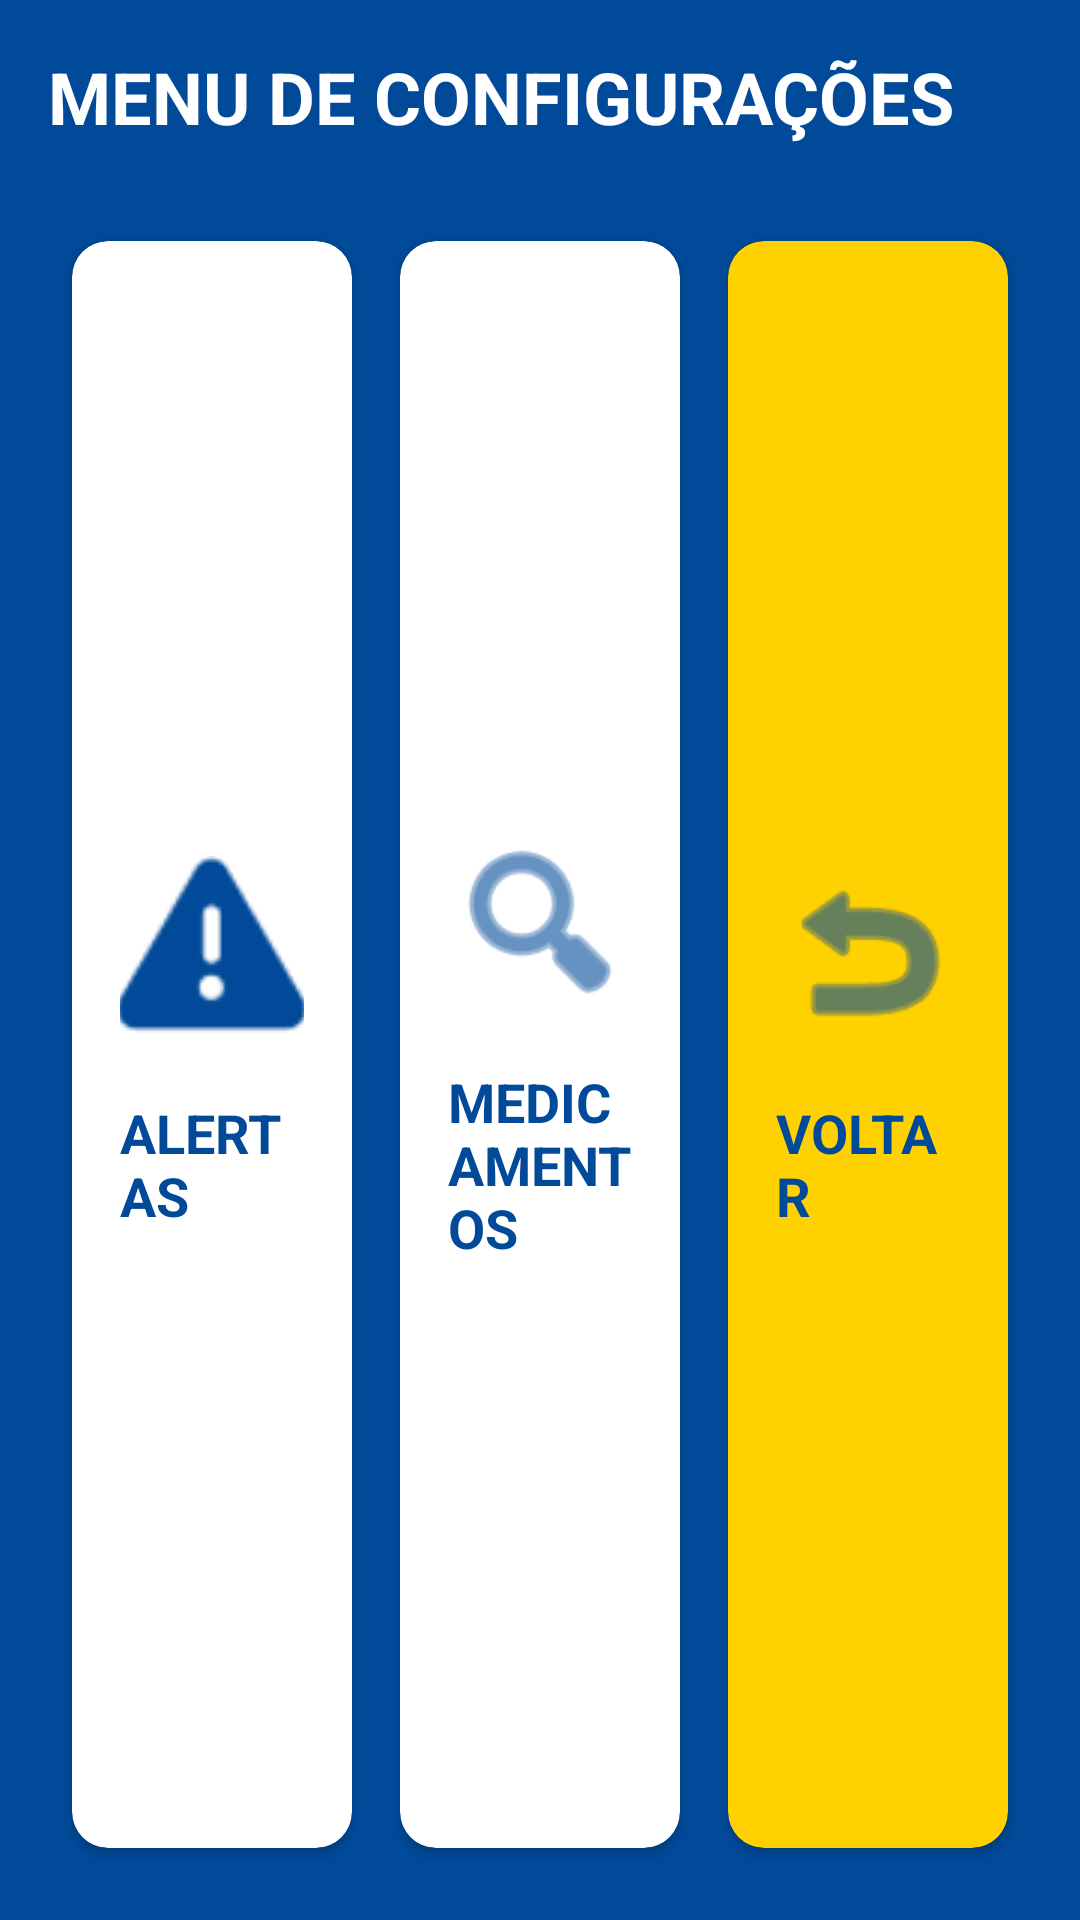

Icon click points for this 1080×1920 phone screenshot, format point (x, y):
revert: point (870, 953)
search: point (540, 922)
